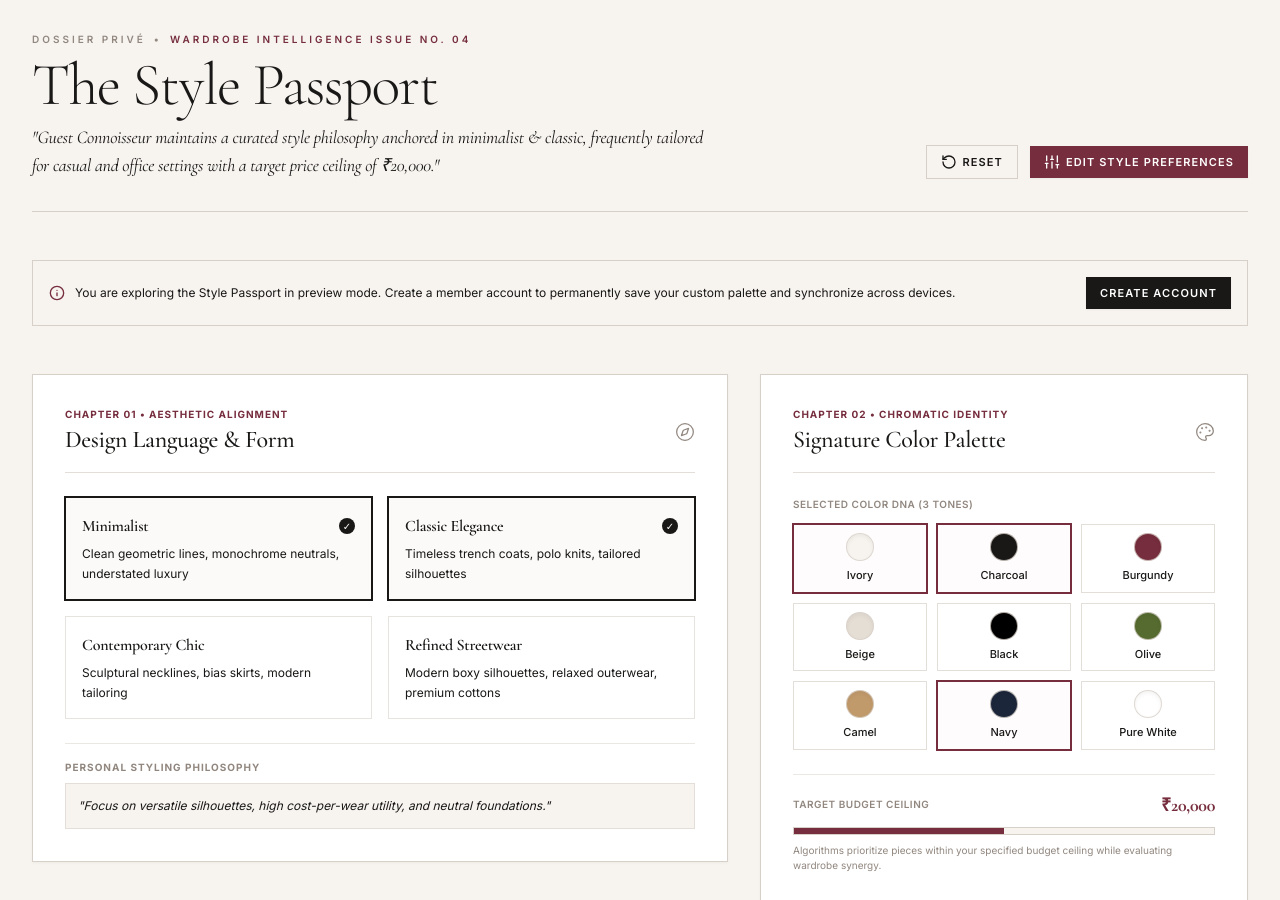
Test: StyleSense AI — Style Passport Frontend Tests › Requirement 3: Toggling edit mode reveals editable form controls and persist button
Click the button "Edit Style Preferences". click: (1139, 162)
box: top-left (1030, 146), bottom-right (1248, 178)
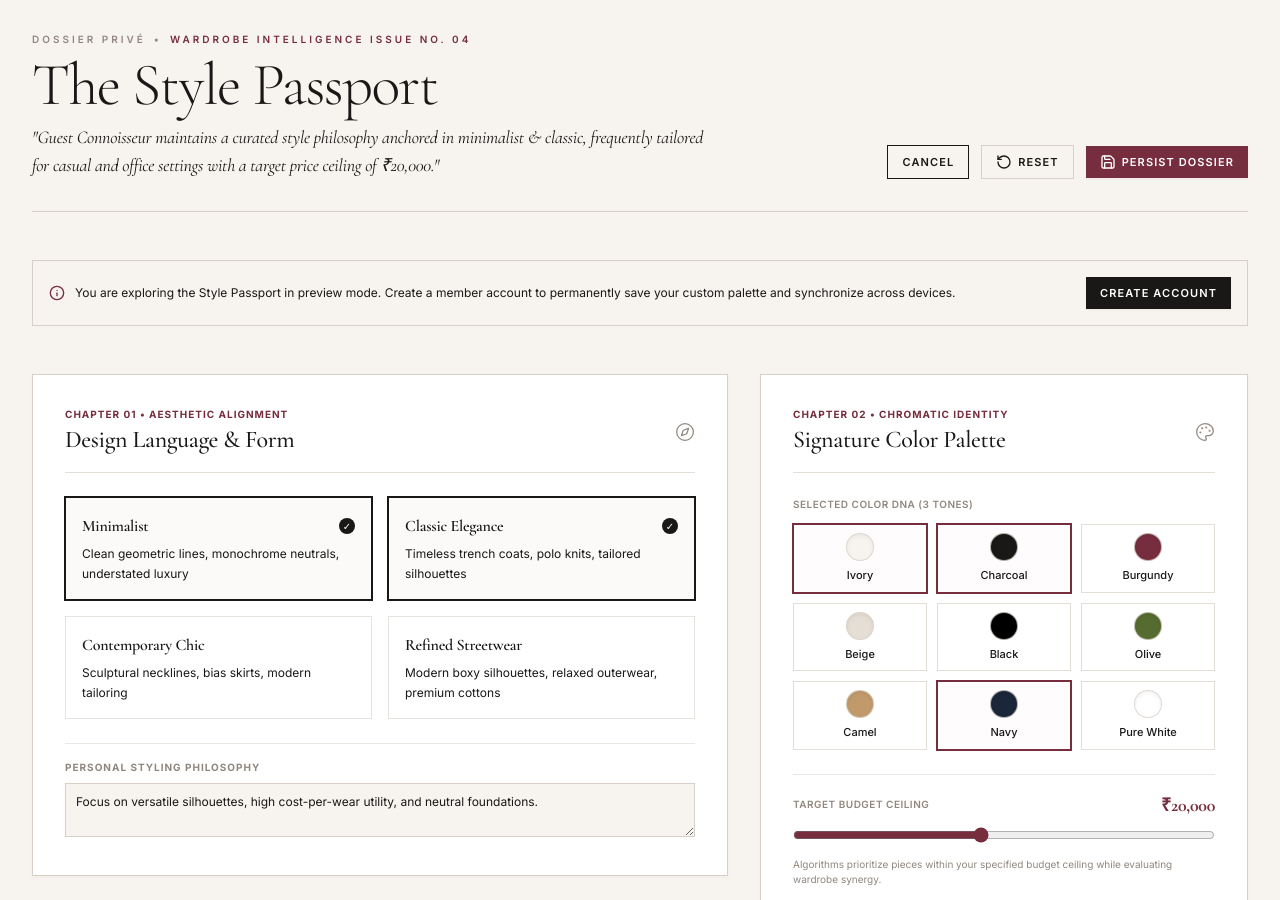
Result: the button "Persist Dossier" is shown at top-left (1086, 146), bottom-right (1248, 178)
